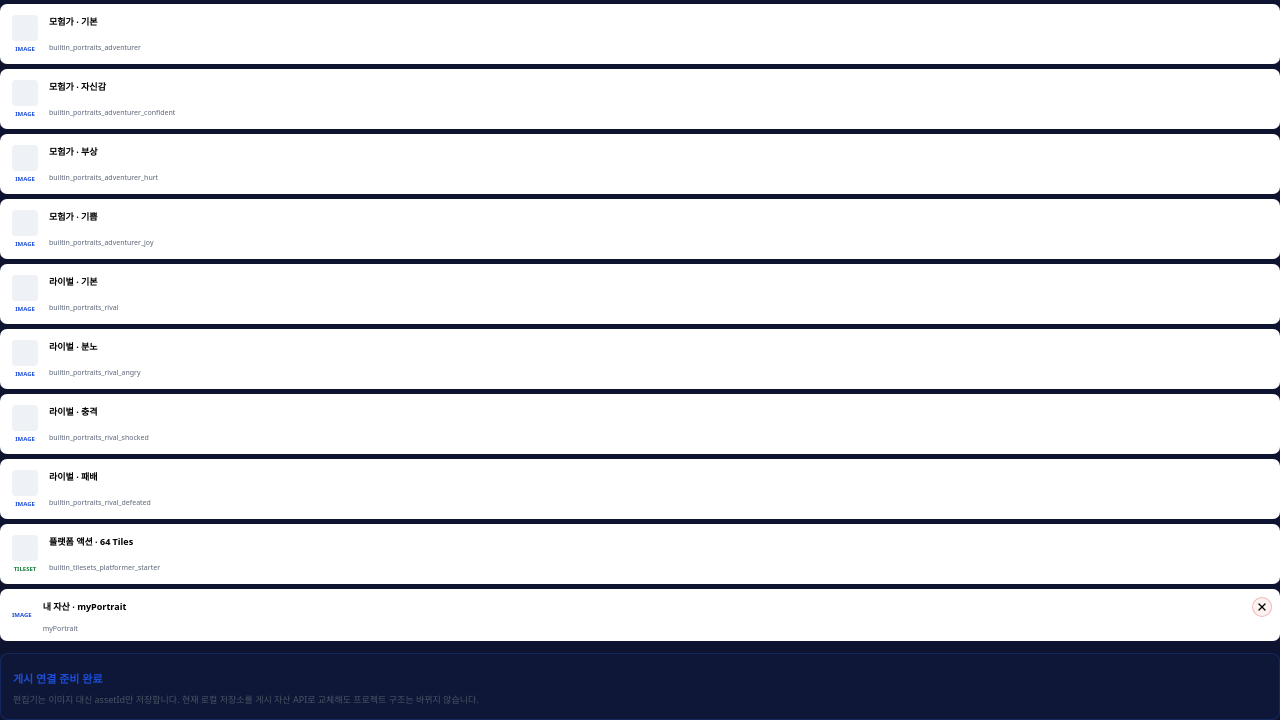
Test: ProjectDataPanel — 자산 삭제(S15P21A604-561) › 취소를 누르면 삭제하지 않고 확인 카드만 닫는다
(page scrolled)
Click the button named "내 자산 · myPortrait 삭제" at [1262, 607], box 1252,597 -> 1272,617
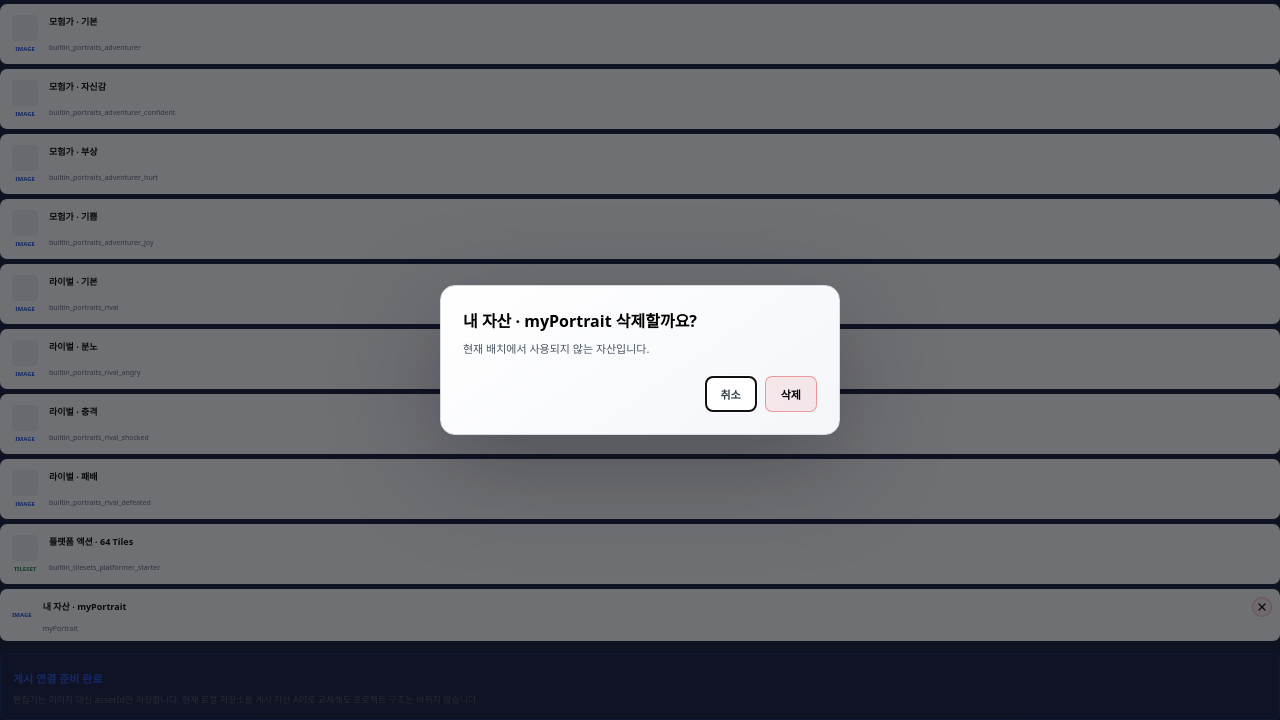
Click the button "취소" at [731, 394], box 704,376 -> 757,412
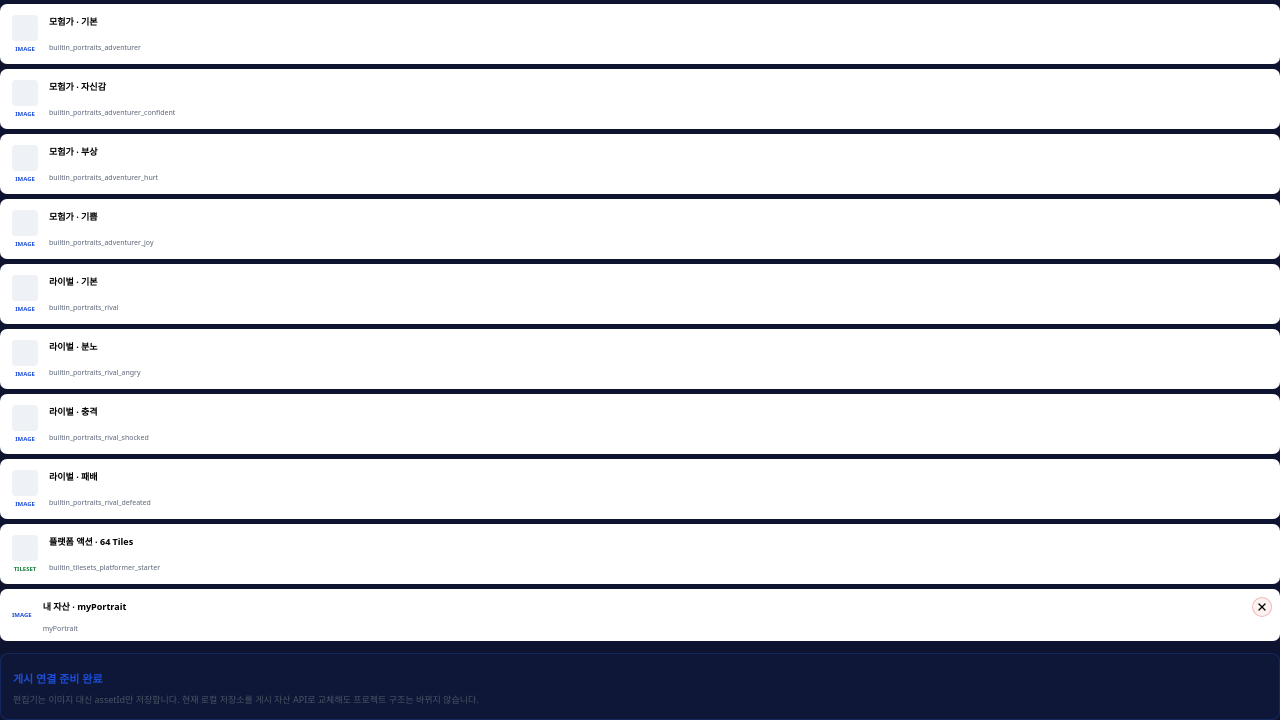
Expected: the dialog is gone
